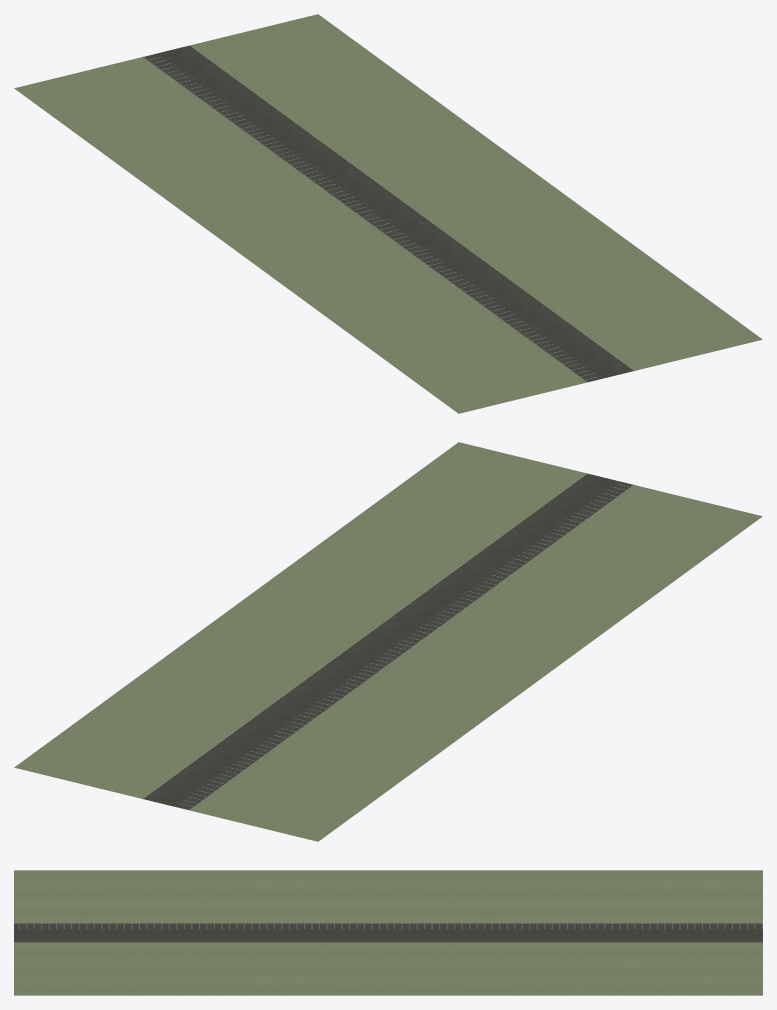
3 renders of one model, top to bottom at view 1: azimuth 30°, elevation 25°; view 2: azimuth 150°, elevation 25°; view 3: azimuth 270°, elevation 25°, orthographic. The views are drawn at different scales.
Parts seen in each view (by area): view 1: ParkingLot; view 2: ParkingLot; view 3: ParkingLot.
Boxes of the visible parts, x1=… form: ParkingLot: x1=14, y1=14, x2=762, y2=413; ParkingLot: x1=14, y1=442, x2=762, y2=841; ParkingLot: x1=14, y1=870, x2=762, y2=995.
Size of the model in its own units: 118 by 0.1001 by 299.
3 materials, 3 textured.
